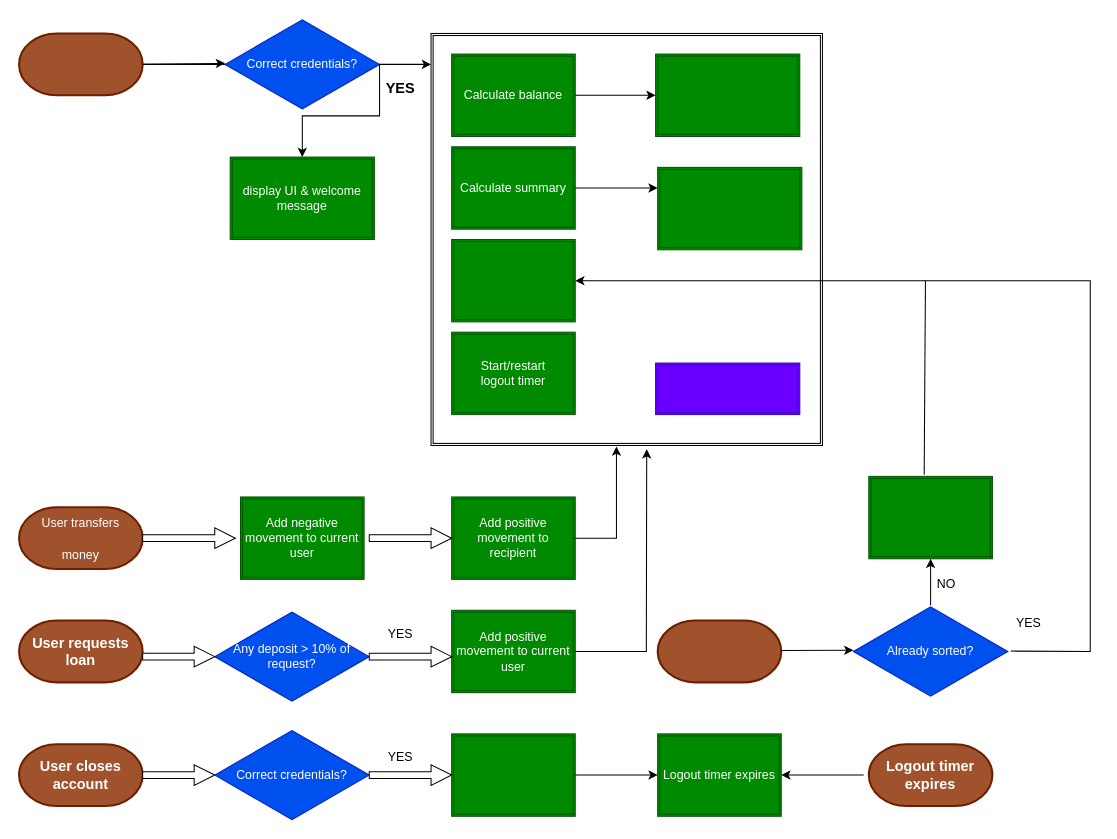
The diagram is 1117 pixels wide and 839 high, and some of its shapes have lost their labels. Here are the shapes that lost their labels. From the top down, the centre of each, then its label:
point 80,64: User logs in
point 727,94: Display balance
point 729,208: Display summary
point 513,280: Display movements
point 727,388: Update UI
point 930,517: Sort movements
point 719,651: User sorts movements
point 513,774: Delete user from data
